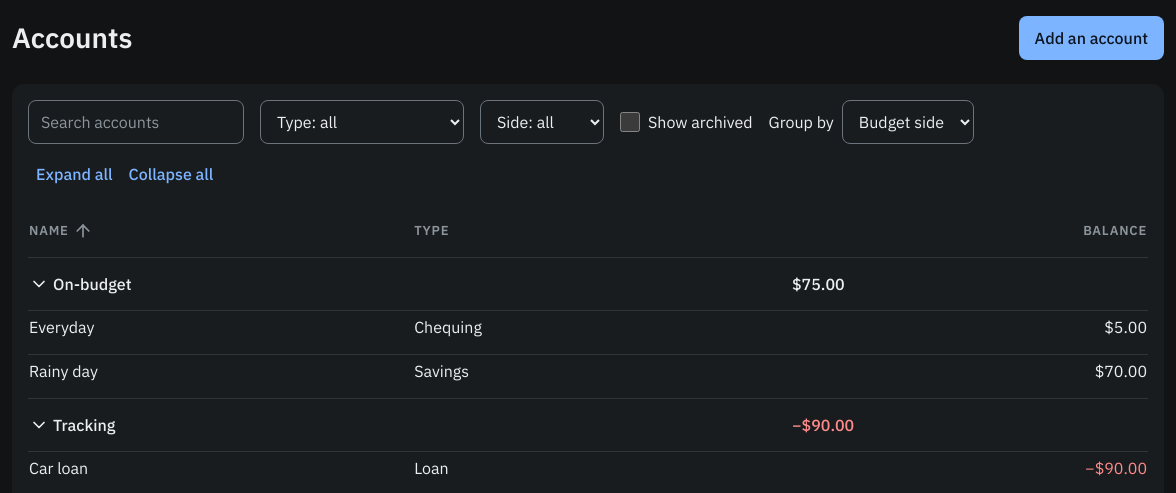
Test case: Accounts sort › Clear filters shows while the sort is not the default, and restores it
Check: the text "Everyday" is shown, box [28,310,413,354]
Check: the button "Clear filters" is not shown
Click the button "Balance". click: (1115, 231)
box: [1083,209,1147,253]
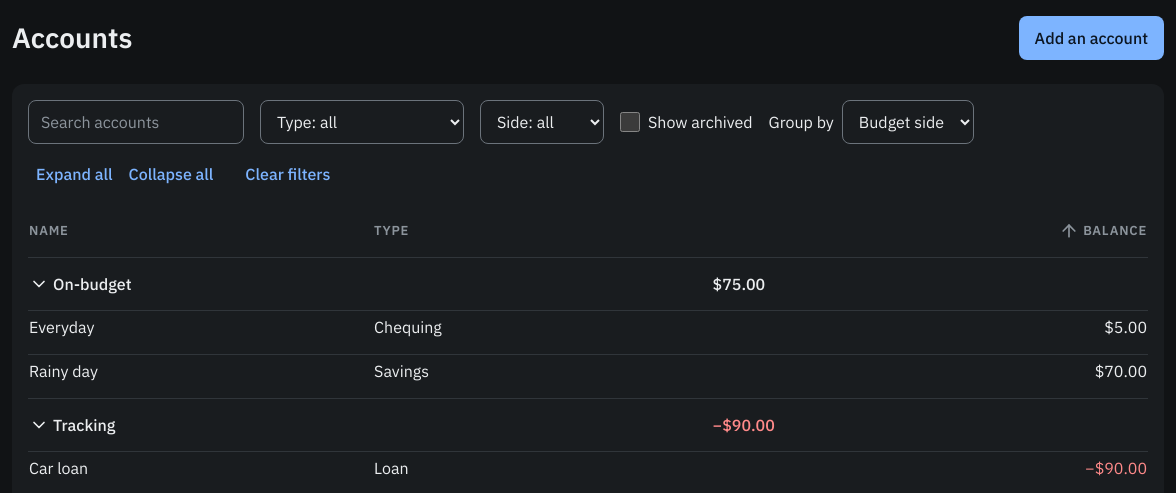
Click the button "Clear filters". click: (288, 174)
box: [237,152,338,196]
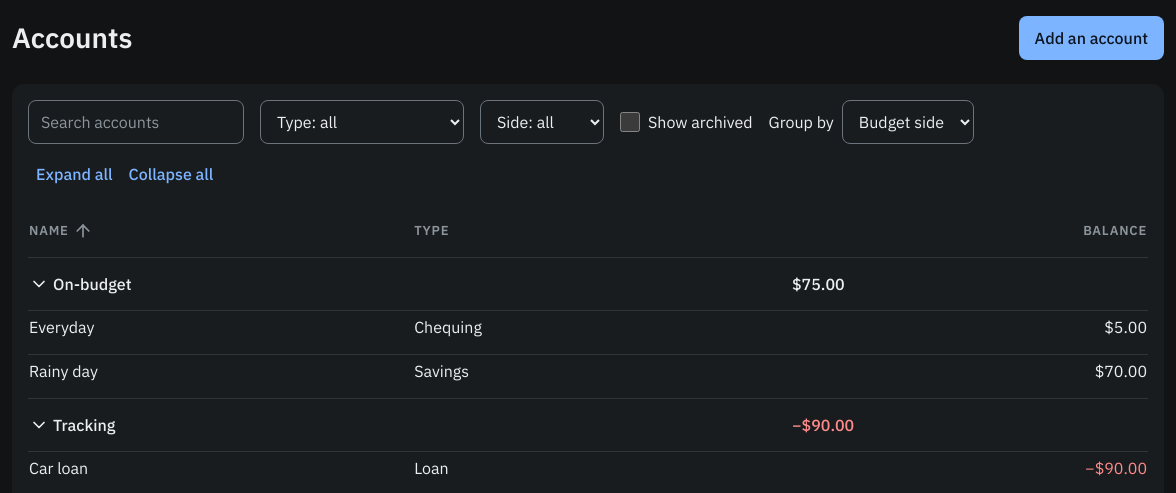
Check: the button "Clear filters" is gone
